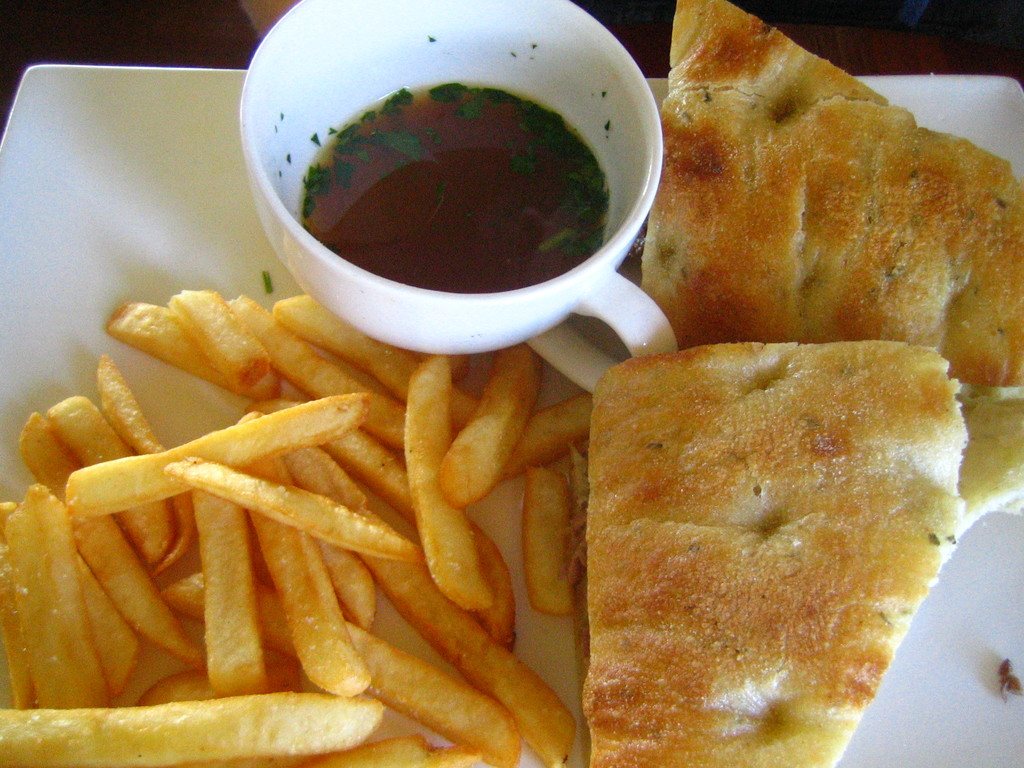French fries: (0, 277, 631, 746)
